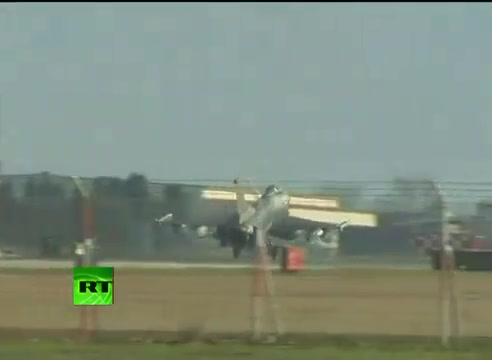aeroplane: (148, 176, 381, 259)
